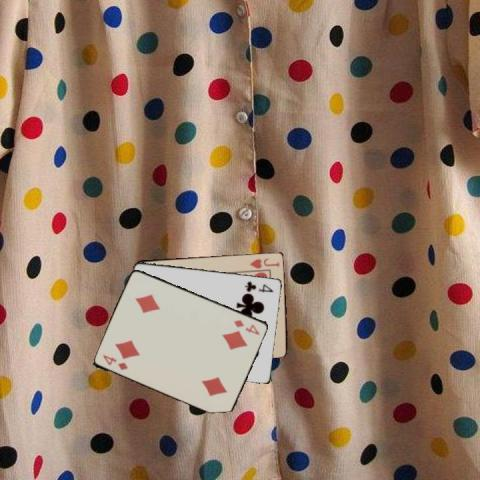4c: (242, 278, 275, 294)
4d: (100, 352, 129, 372), (232, 317, 262, 336)
Jh: (247, 256, 281, 270)
